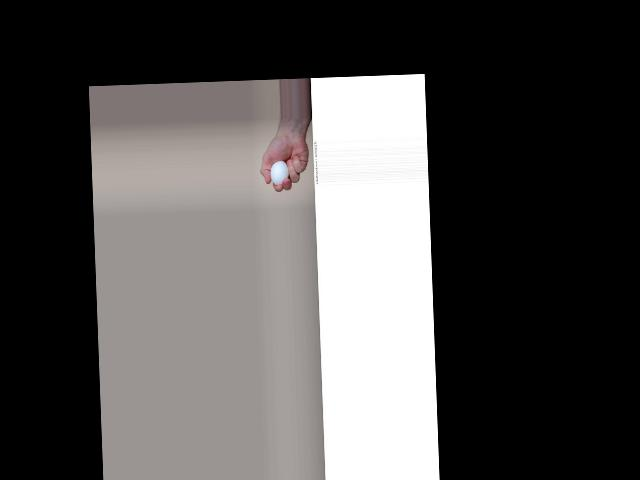egg: (270, 159, 289, 184)
